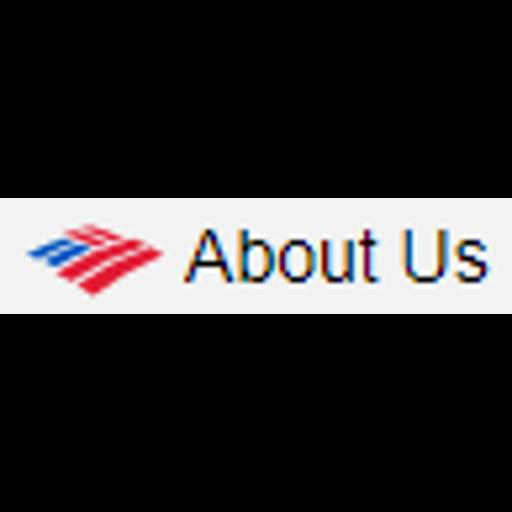Bank of America: (0, 198, 512, 314)
